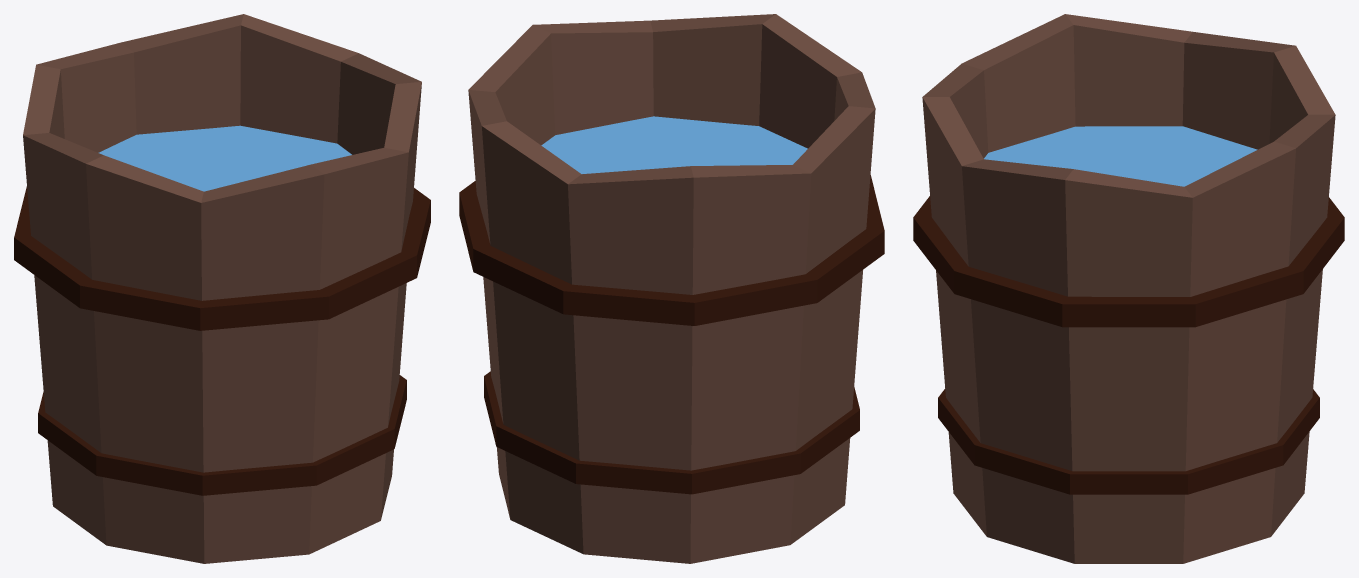
File: Bucket_3_Water.fbx
The picture shows the model from 3 angles, left to right: view 1: azimuth 30°, elevation 25°; view 2: azimuth 150°, elevation 25°; view 3: azimuth 270°, elevation 25°; orthographic projection. The views are drawn at different scales.
Visible parts, largest first — view 1: Circle.006, Circle.007, Circle.010, Circle.009; view 2: Circle.006, Circle.007, Circle.010, Circle.009; view 3: Circle.006, Circle.007, Circle.010, Circle.009.
Part boxes in pixels (<box>): Circle.006: <box>23,14,421,563</box>; Circle.007: <box>14,186,430,330</box>; Circle.010: <box>98,125,351,191</box>; Circle.009: <box>38,375,406,495</box>; Circle.006: <box>468,14,875,563</box>; Circle.007: <box>459,175,884,325</box>; Circle.010: <box>541,116,807,173</box>; Circle.009: <box>484,371,859,494</box>; Circle.006: <box>922,14,1335,563</box>; Circle.007: <box>913,196,1344,327</box>; Circle.010: <box>984,126,1257,186</box>; Circle.009: <box>938,388,1319,494</box>.
Bounding box in the file's own units: 199 × 212 × 209.
